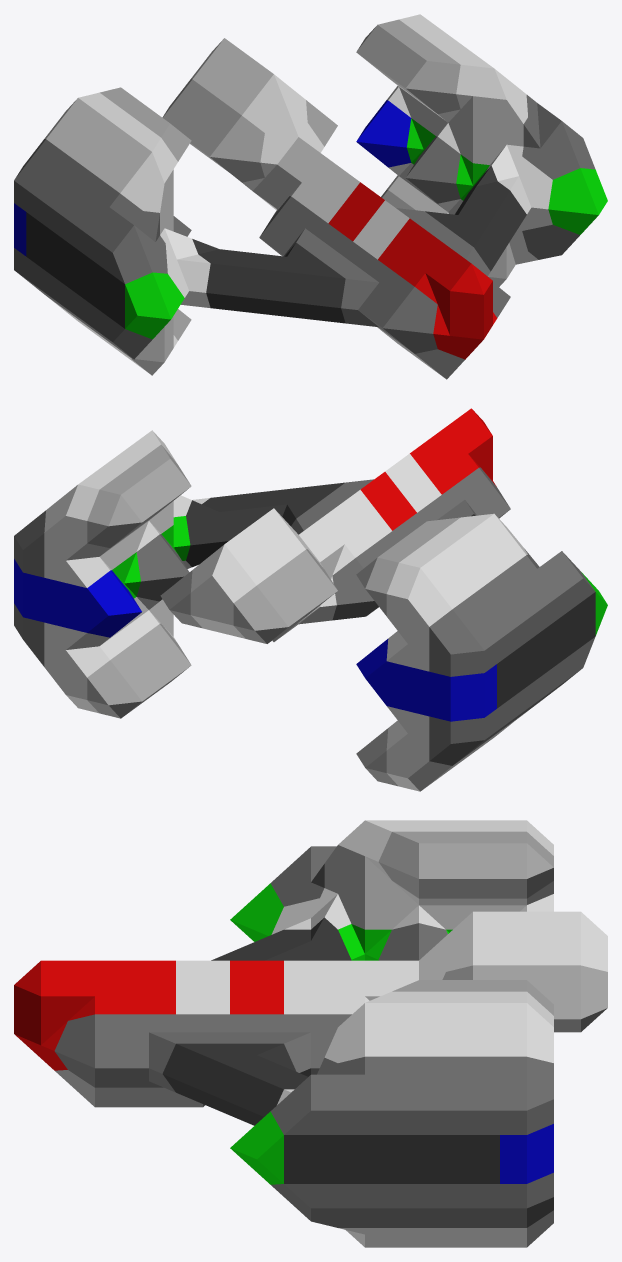
File: ship_basic_gremlin.fbx
The picture shows the model from 3 angles, top to bottom: view 1: azimuth 30°, elevation 25°; view 2: azimuth 150°, elevation 25°; view 3: azimuth 270°, elevation 25°; orthographic projection. The views are drawn at different scales.
Parts seen in each view (by area): view 1: ship_basic_gremlin; view 2: ship_basic_gremlin; view 3: ship_basic_gremlin.
Boxes of the visible parts, <box> form: ship_basic_gremlin: <box>14,14,607,379</box>; ship_basic_gremlin: <box>14,408,607,791</box>; ship_basic_gremlin: <box>14,820,607,1247</box>.
Bounding box in the file's own units: 1100 × 500 × 1100.
